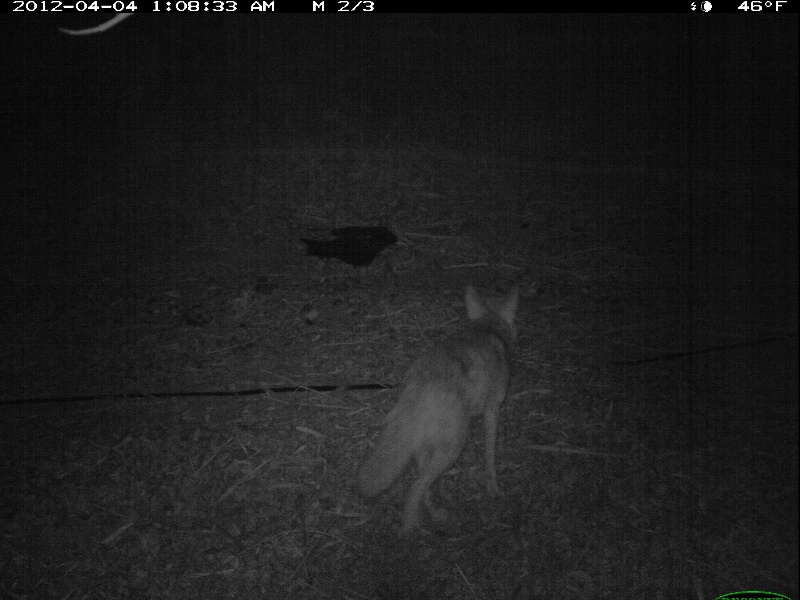coyote: (358, 276, 528, 540)
